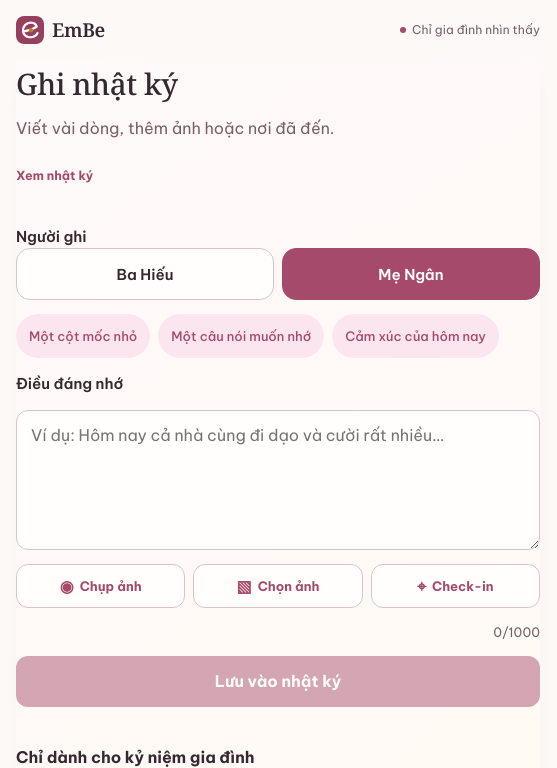
Test: one-handed family journal › submits once and clears the note after acceptance
In the text box labelled "Điều đáng nhớ": (278,480) x1=16 y1=410 x2=540 y2=550, type "Hôm nay cả nhà cùng đi dạo."
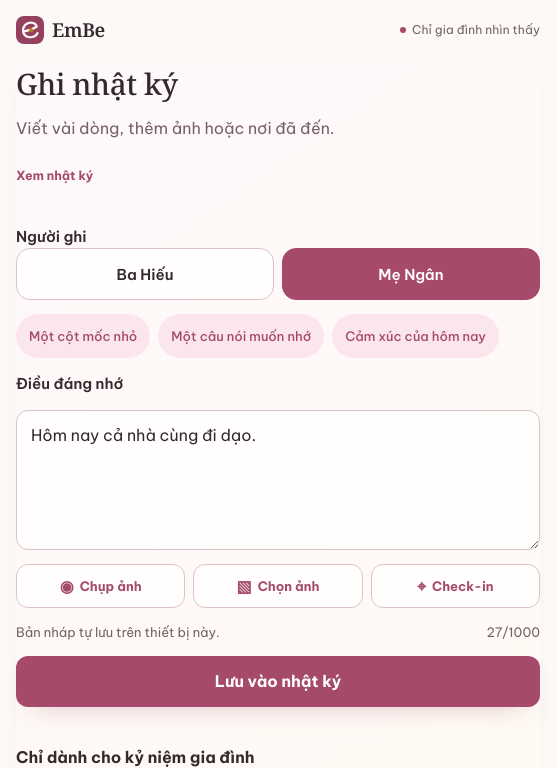
Click the button "Lưu vào nhật ký": (278,681) x1=16 y1=656 x2=540 y2=706
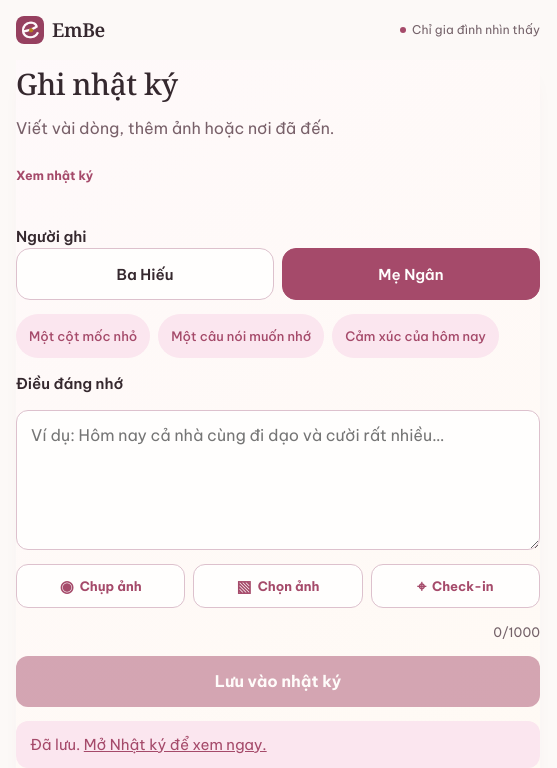
Now the message shows "Đã lưu", box x1=30 y1=734 x2=84 y2=754
Now the text box labelled "Điều đáng nhớ" is empty, box x1=16 y1=410 x2=540 y2=550
